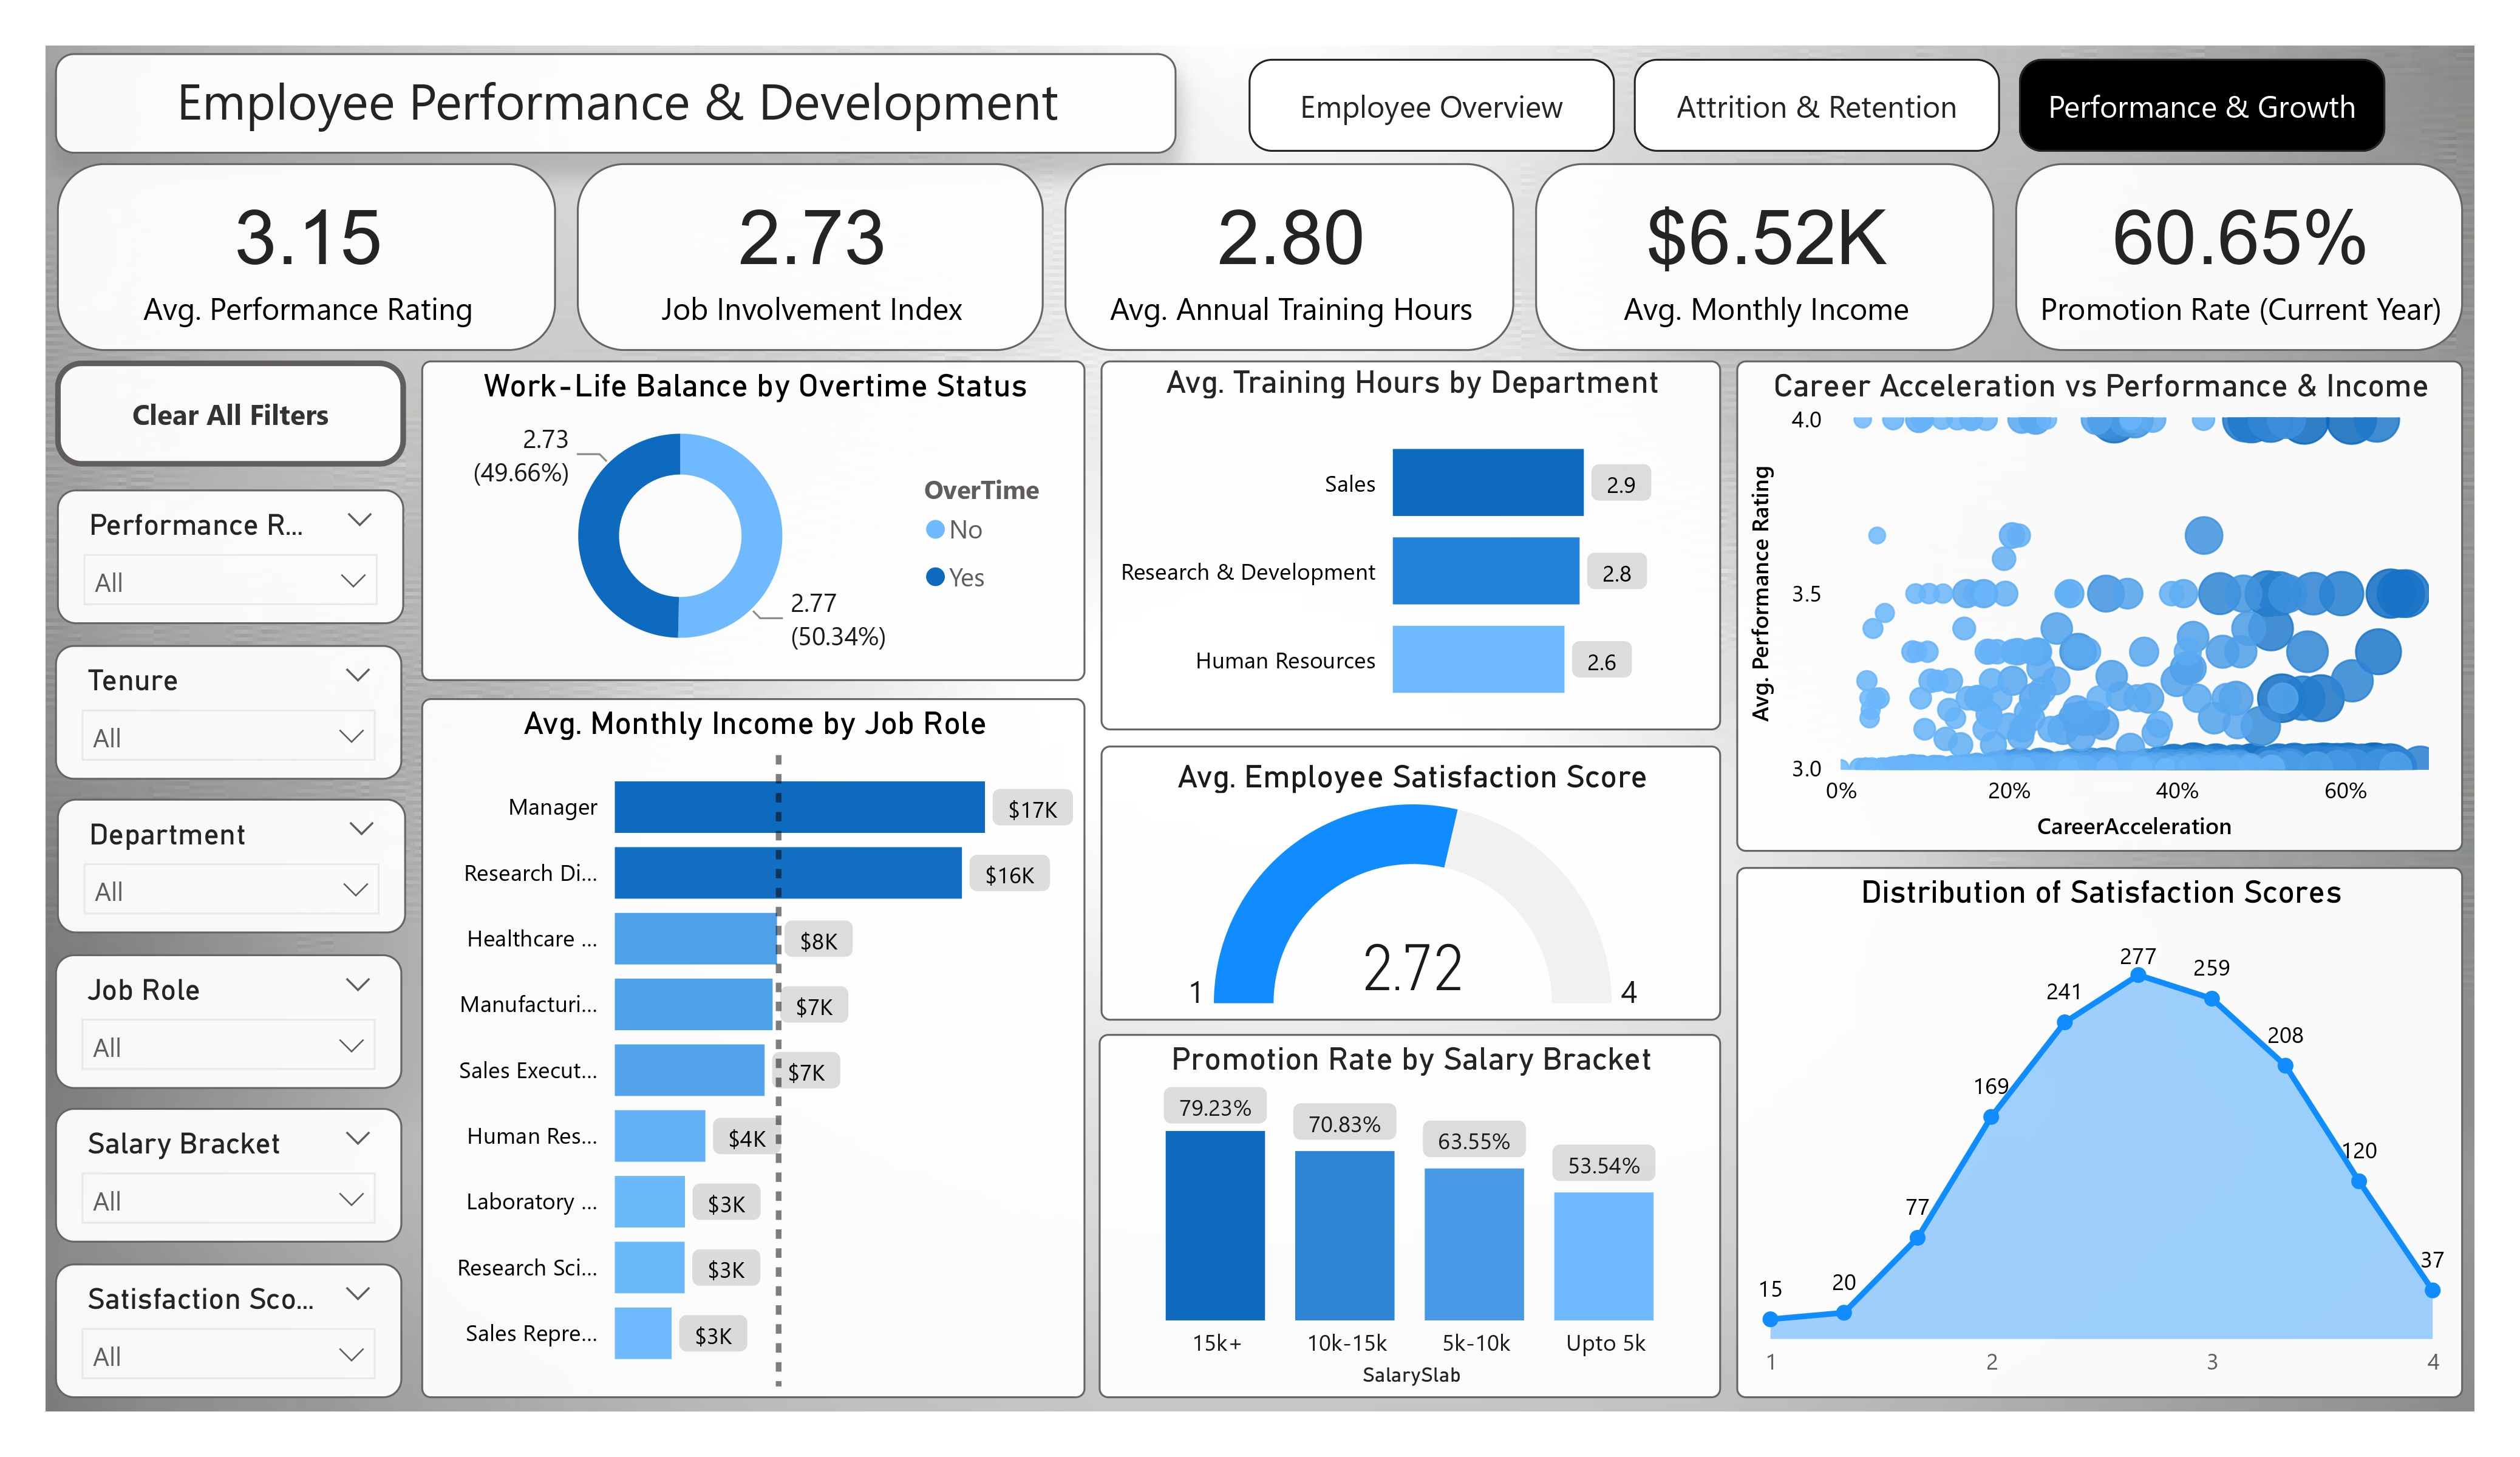

What the dashboard file says about the page in this screenshot:
{"tool":"powerbi","page":{"name":"Performance & Growth","canvas":[1280,720],"ordinal":2},"visuals":[{"type":"textbox","box":[4.8,4,591,53.1],"z":0},{"type":"card","fields":{"Values":["_Measure.Avg. Performance Rating"]},"box":[6,61.5,262.9,98.9],"z":1000,"group":"g2"},{"type":"actionButton","box":[5,166.4,184.5,55.5],"z":1000},{"type":"group","id":"g1","title":"Group 2","box":[4.8,233.8,184.5,478.8],"z":2000},{"type":"pageNavigator","box":[634.4,7,600.6,49.4],"z":3000},{"type":"clusteredBarChart","fields":{"Y":["_Measure.Avg. Training Hours"],"Category":["HR_Analytics-processed.Department"]},"box":[556,166.4,326.8,194.2],"z":4000},{"type":"scatterChart","title":"Career Acceleration vs Performance & Income","fields":{"X":["HR_Analytics-processed.CareerAcceleration"],"Y":["_Measure.Avg. Performance Rating"],"Size":["_Measure.Avg. Monthly Income"]},"box":[891.3,166.4,382.3,258.1],"z":5000},{"type":"clusteredBarChart","title":"Avg. Monthly Income by Job Role","fields":{"Category":["HR_Analytics-processed.JobRole"],"Y":["_Measure.Avg. Monthly Income"]},"box":[197.8,343.7,349.7,369],"z":6000},{"type":"areaChart","title":"Distribution of Satisfaction Scores","fields":{"Category":["HR_Analytics-processed.Overall Satisfaction Score"],"Y":["CountNonNull(HR_Analytics-processed.Overall Satisfaction Score)"]},"box":[891.3,433,382.3,279.8],"z":7000},{"type":"slicer","fields":{"Values":["HR_Analytics-processed.PerformanceRating"]},"box":[5.8,233.8,183.3,71.2],"z":8000,"group":"g1"},{"type":"clusteredColumnChart","title":"Promotion Rate by Salary Bracket","fields":{"Category":["HR_Analytics-processed.SalarySlab"],"Y":["_Measure.Promotion Rate (%)"]},"box":[554.8,521,328,191.8],"z":8000},{"type":"donutChart","title":"Work-Life Balance by Overtime Status","fields":{"Y":["Avg(HR_Analytics-processed.WorkLifeBalance)"],"Category":["HR_Analytics-processed.OverTime"]},"box":[197.8,166.4,349.7,168.8],"z":9000},{"type":"gauge","title":"Avg. Employee Satisfaction Score","fields":{"MaxValue":["_Measure.Max Satisfaction Score"],"MinValue":["_Measure.Min Satisfaction Score"],"Y":["_Measure.Avg. Satisfaction Score"]},"box":[556,369,326.8,144.7],"z":10000},{"type":"group","id":"g2","title":"Group 1","box":[6,61.5,1267.5,99],"z":11000},{"type":"slicer","fields":{"Values":["HR_Analytics-processed.YearsAtCompany (groups)"]},"box":[4.8,315.3,183.3,71.2],"z":11000,"group":"g1"},{"type":"slicer","fields":{"Values":["HR_Analytics-processed.Department"]},"box":[6,396.9,183.3,71.2],"z":12000,"group":"g1"},{"type":"slicer","fields":{"Values":["HR_Analytics-processed.JobRole"]},"box":[4.8,478.4,183.3,71.2],"z":13000,"group":"g1"},{"type":"slicer","fields":{"Values":["HR_Analytics-processed.SalarySlab"]},"box":[4.8,559.9,183.3,71.2],"z":14000,"group":"g1"},{"type":"card","fields":{"Values":["_Measure.Avg. Job Involvement"]},"box":[280.1,61.5,246,98.9],"z":15000,"group":"g2"},{"type":"slicer","fields":{"Values":["HR_Analytics-processed.Overall Satisfaction Score"]},"box":[5,641.4,183.3,71],"z":15000,"group":"g1"},{"type":"card","fields":{"Values":["_Measure.Avg. Training Hours"]},"box":[537.3,61.5,236.4,98.9],"z":16000,"group":"g2"},{"type":"card","fields":{"Values":["_Measure.Avg. Monthly Income"]},"box":[784.8,61.6,242.4,98.9],"z":17000,"group":"g2"},{"type":"card","fields":{"Values":["_Measure.Promotion Rate (%)"]},"box":[1038.4,61.5,235.2,98.9],"z":18000,"group":"g2"}]}

Visuals, with their boxes on the page's 1280x720 design canvas (x1, y1, x2, y2). These are canvas units, not pixel positions in the 2520x1457 screenshot, which may show the page scaled, cropped or inside an application window:
textbox: Rect(5, 4, 596, 57)
card - _Measure.Avg. Performance Rating: Rect(6, 62, 269, 160)
actionButton: Rect(5, 166, 190, 222)
"Group 2" group: Rect(5, 234, 189, 713)
pageNavigator: Rect(634, 7, 1235, 56)
clusteredBarChart - _Measure.Avg. Training Hours x HR_Analytics-processed.Department: Rect(556, 166, 883, 361)
"Career Acceleration vs Performance & Income" scatterChart: Rect(891, 166, 1274, 424)
"Avg. Monthly Income by Job Role" clusteredBarChart: Rect(198, 344, 548, 713)
"Distribution of Satisfaction Scores" areaChart: Rect(891, 433, 1274, 713)
slicer - HR_Analytics-processed.PerformanceRating: Rect(6, 234, 189, 305)
"Promotion Rate by Salary Bracket" clusteredColumnChart: Rect(555, 521, 883, 713)
"Work-Life Balance by Overtime Status" donutChart: Rect(198, 166, 548, 335)
"Avg. Employee Satisfaction Score" gauge: Rect(556, 369, 883, 514)
"Group 1" group: Rect(6, 62, 1274, 160)
slicer - HR_Analytics-processed.YearsAtCompany (groups): Rect(5, 315, 188, 386)
slicer - HR_Analytics-processed.Department: Rect(6, 397, 189, 468)
slicer - HR_Analytics-processed.JobRole: Rect(5, 478, 188, 550)
slicer - HR_Analytics-processed.SalarySlab: Rect(5, 560, 188, 631)
card - _Measure.Avg. Job Involvement: Rect(280, 62, 526, 160)
slicer - HR_Analytics-processed.Overall Satisfaction Score: Rect(5, 641, 188, 712)
card - _Measure.Avg. Training Hours: Rect(537, 62, 774, 160)
card - _Measure.Avg. Monthly Income: Rect(785, 62, 1027, 160)
card - _Measure.Promotion Rate (%): Rect(1038, 62, 1274, 160)
